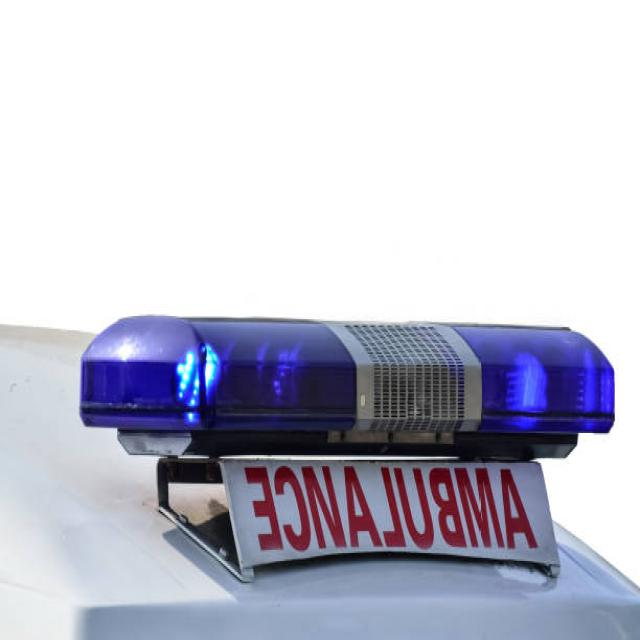emergency lights: (104, 235, 616, 533)
